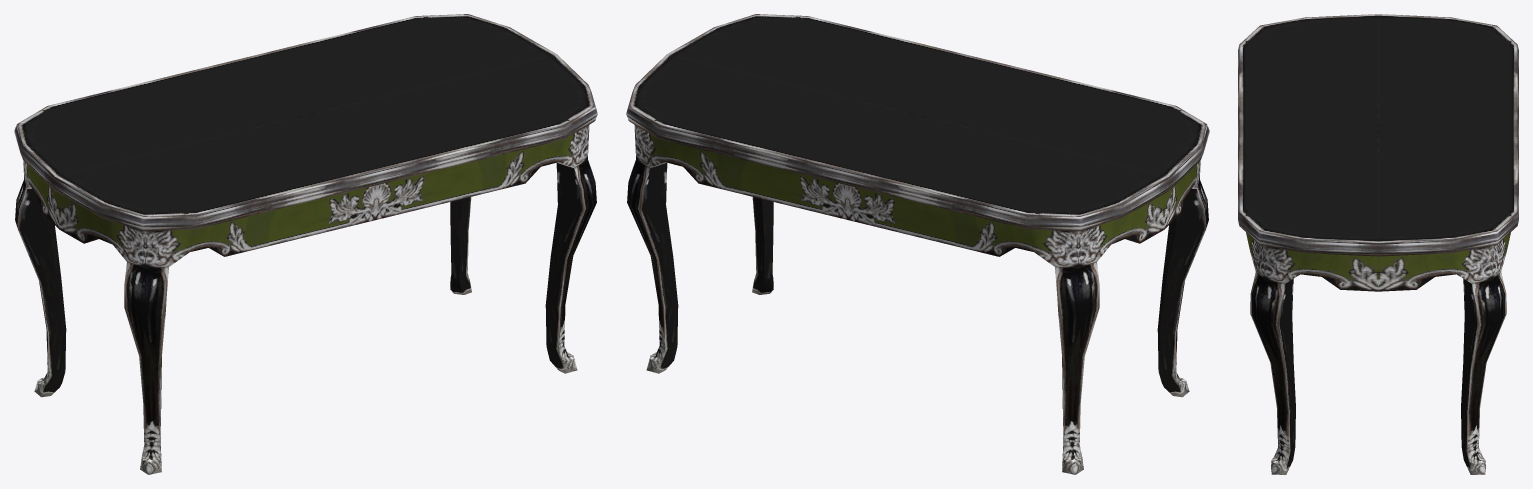
The model's file is furni_0201212_03.FBX.
The picture shows the model from 3 angles, left to right: view 1: azimuth 30°, elevation 25°; view 2: azimuth 150°, elevation 25°; view 3: azimuth 270°, elevation 25°; orthographic projection. The views are drawn at different scales.
Visible parts, largest first — view 1: furni_0201212_03; view 2: furni_0201212_03; view 3: furni_0201212_03.
Boxes of the visible parts, box(x1,y1,x2,y2) form: furni_0201212_03: box(14, 14, 597, 474); furni_0201212_03: box(626, 14, 1209, 474); furni_0201212_03: box(1238, 14, 1518, 474).
Size of the model in its own units: 157 by 78.76 by 80.8.
